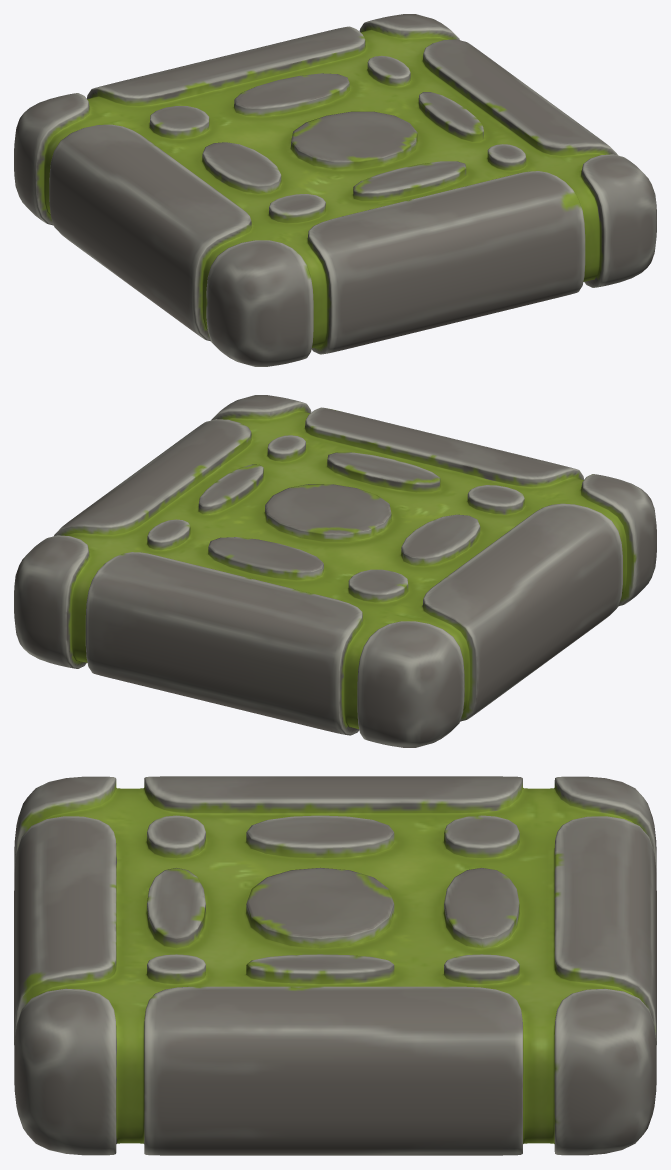
Rendered from arena block 5.fbx.
3 renders of one model, top to bottom at view 1: azimuth 30°, elevation 25°; view 2: azimuth 150°, elevation 25°; view 3: azimuth 270°, elevation 25°, orthographic. The views are drawn at different scales.
Parts seen in each view (by area): view 1: arena block 5 lp; view 2: arena block 5 lp; view 3: arena block 5 lp.
Part boxes in pixels (x1,y1,x2,y2): arena block 5 lp: (14,14,656,366); arena block 5 lp: (14,395,656,747); arena block 5 lp: (14,776,656,1155).
Bounding box in the file's own units: 200 × 49.94 × 200.
